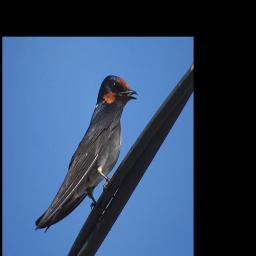Swallow: (34, 75, 137, 230)
